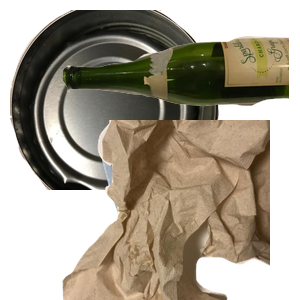glass: (60, 34, 300, 133)
metal: (10, 10, 221, 190)
plastic: (99, 120, 289, 300)
trash: (60, 120, 300, 300)
